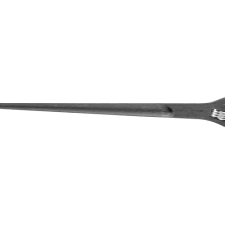Wrench: (1, 88, 225, 137)
